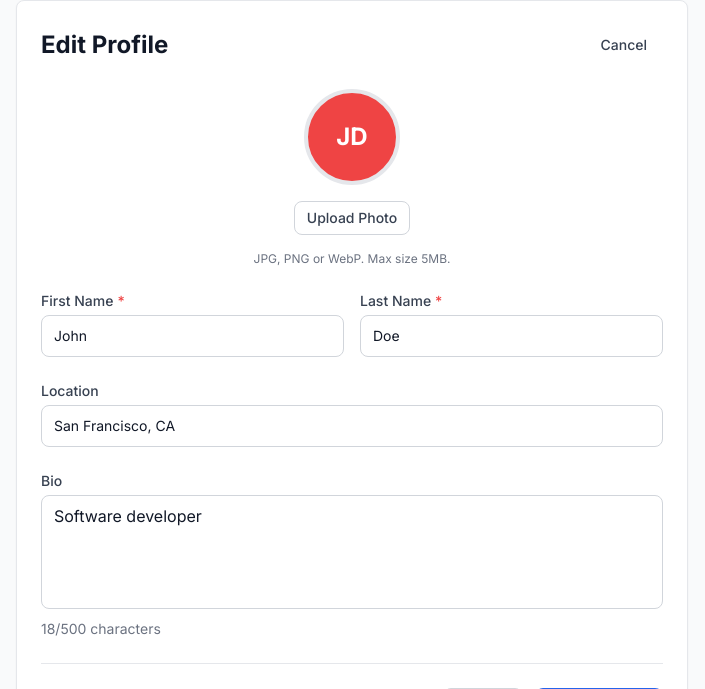
ProfileEdit › shows validation errors for required fields
Clear the field labelled "First Name*" at point(192, 336), box [41,315,344,357]
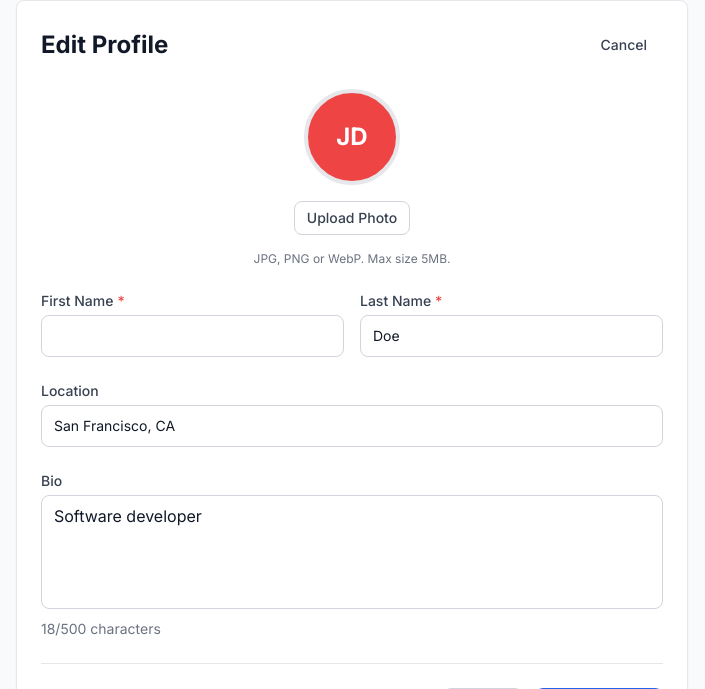
Clear the field labelled "Last Name*" at point(512, 336), box [360,315,663,357]
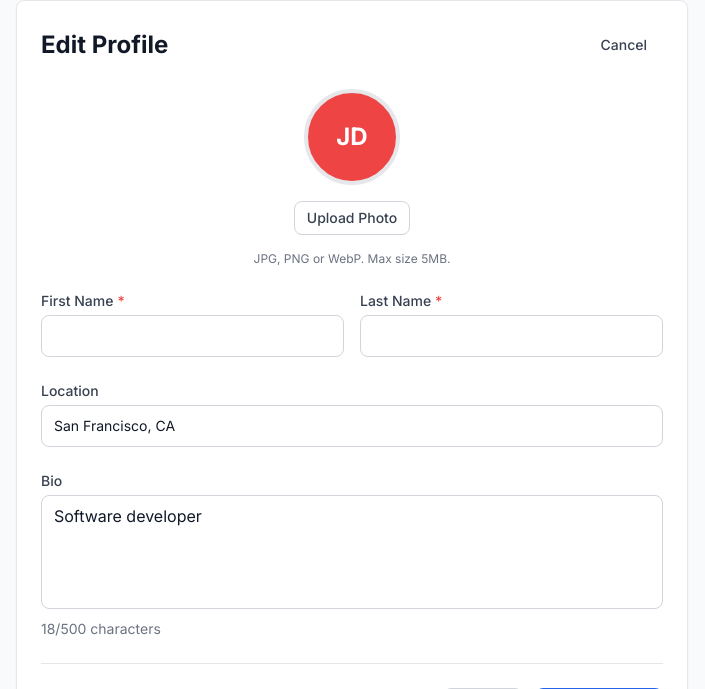
Leave the field labelled "Last Name*", box [360,315,663,357]
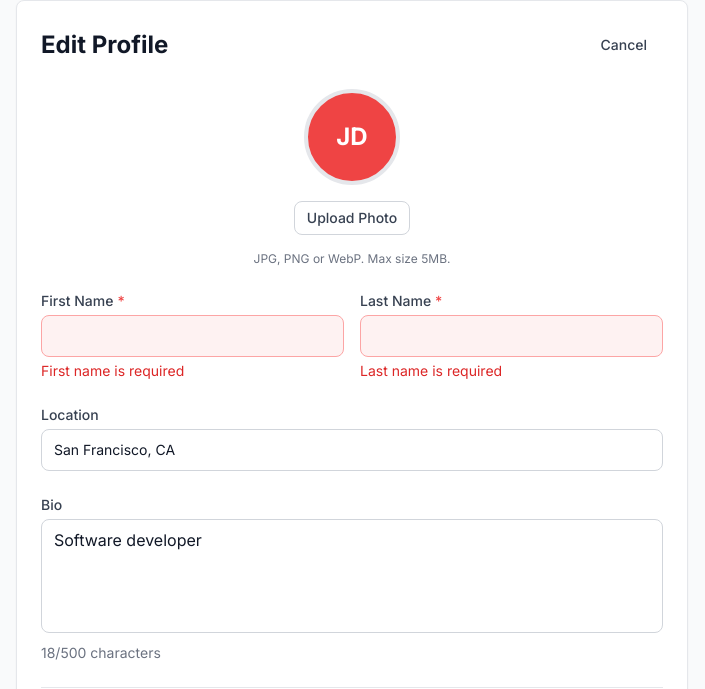
Expected: the text "First name is required" is shown, [41,362,184,379]
Expected: the text "Last name is required" is shown, [360,362,502,379]
